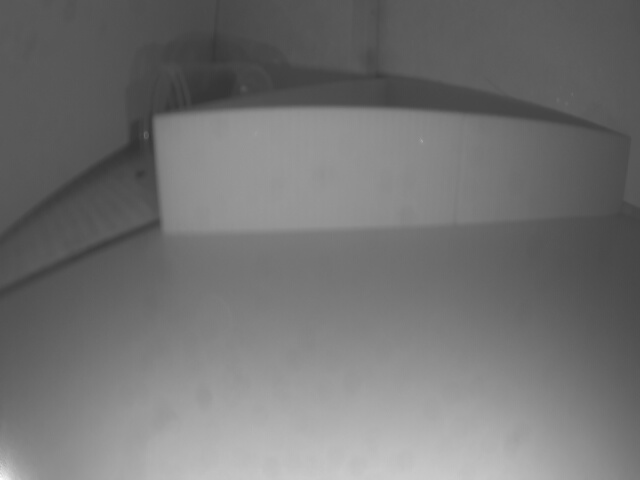Point: (162, 110, 627, 236)
